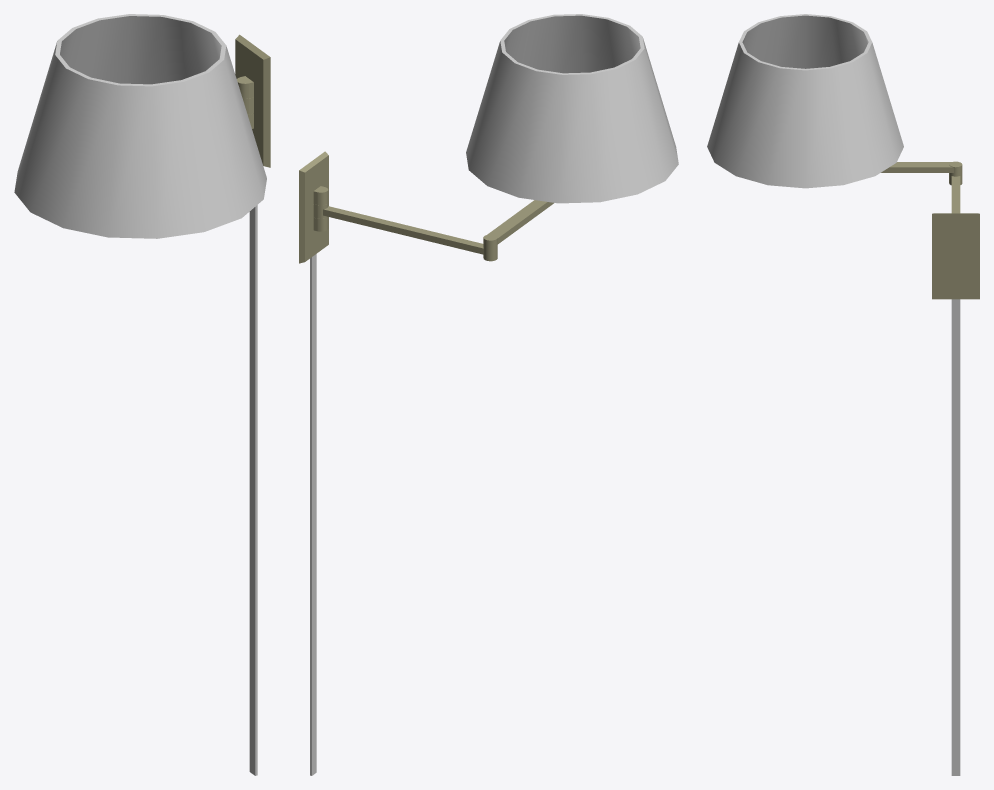
The model's file is m_duck_wallLamp_lod1.fbx.
The picture shows the model from 3 angles, left to right: view 1: azimuth 30°, elevation 25°; view 2: azimuth 150°, elevation 25°; view 3: azimuth 270°, elevation 25°; orthographic projection. The views are drawn at different scales.
Parts seen in each view (by area): view 1: polySurface2, polySurface1; view 2: polySurface2, polySurface1; view 3: polySurface2, polySurface1.
Part boxes in pixels (box(x1,y1,x2,y2)): polySurface2: box(14, 14, 266, 775); polySurface1: box(235, 34, 270, 167); polySurface2: box(310, 14, 678, 775); polySurface1: box(299, 151, 553, 263); polySurface2: box(707, 14, 960, 775); polySurface1: box(881, 161, 979, 299).
Bounding box in the file's own units: 11.49 × 28.85 × 10.91.
